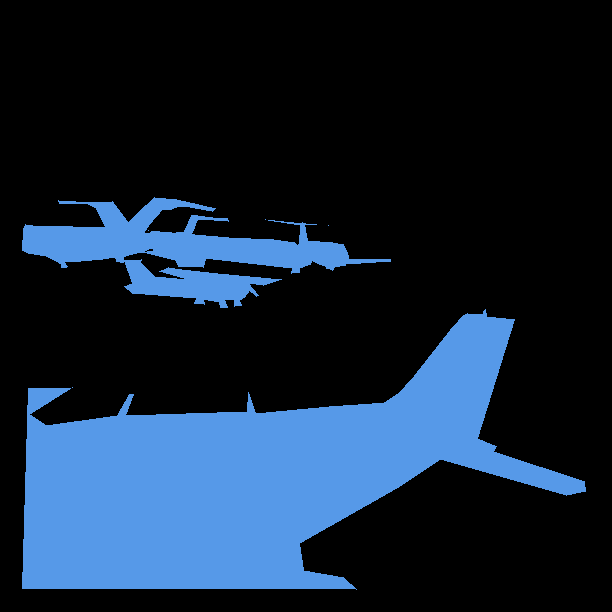Airplane: (22, 309, 585, 590), (22, 197, 229, 267), (124, 259, 282, 308), (140, 230, 312, 274), (265, 219, 391, 271)
